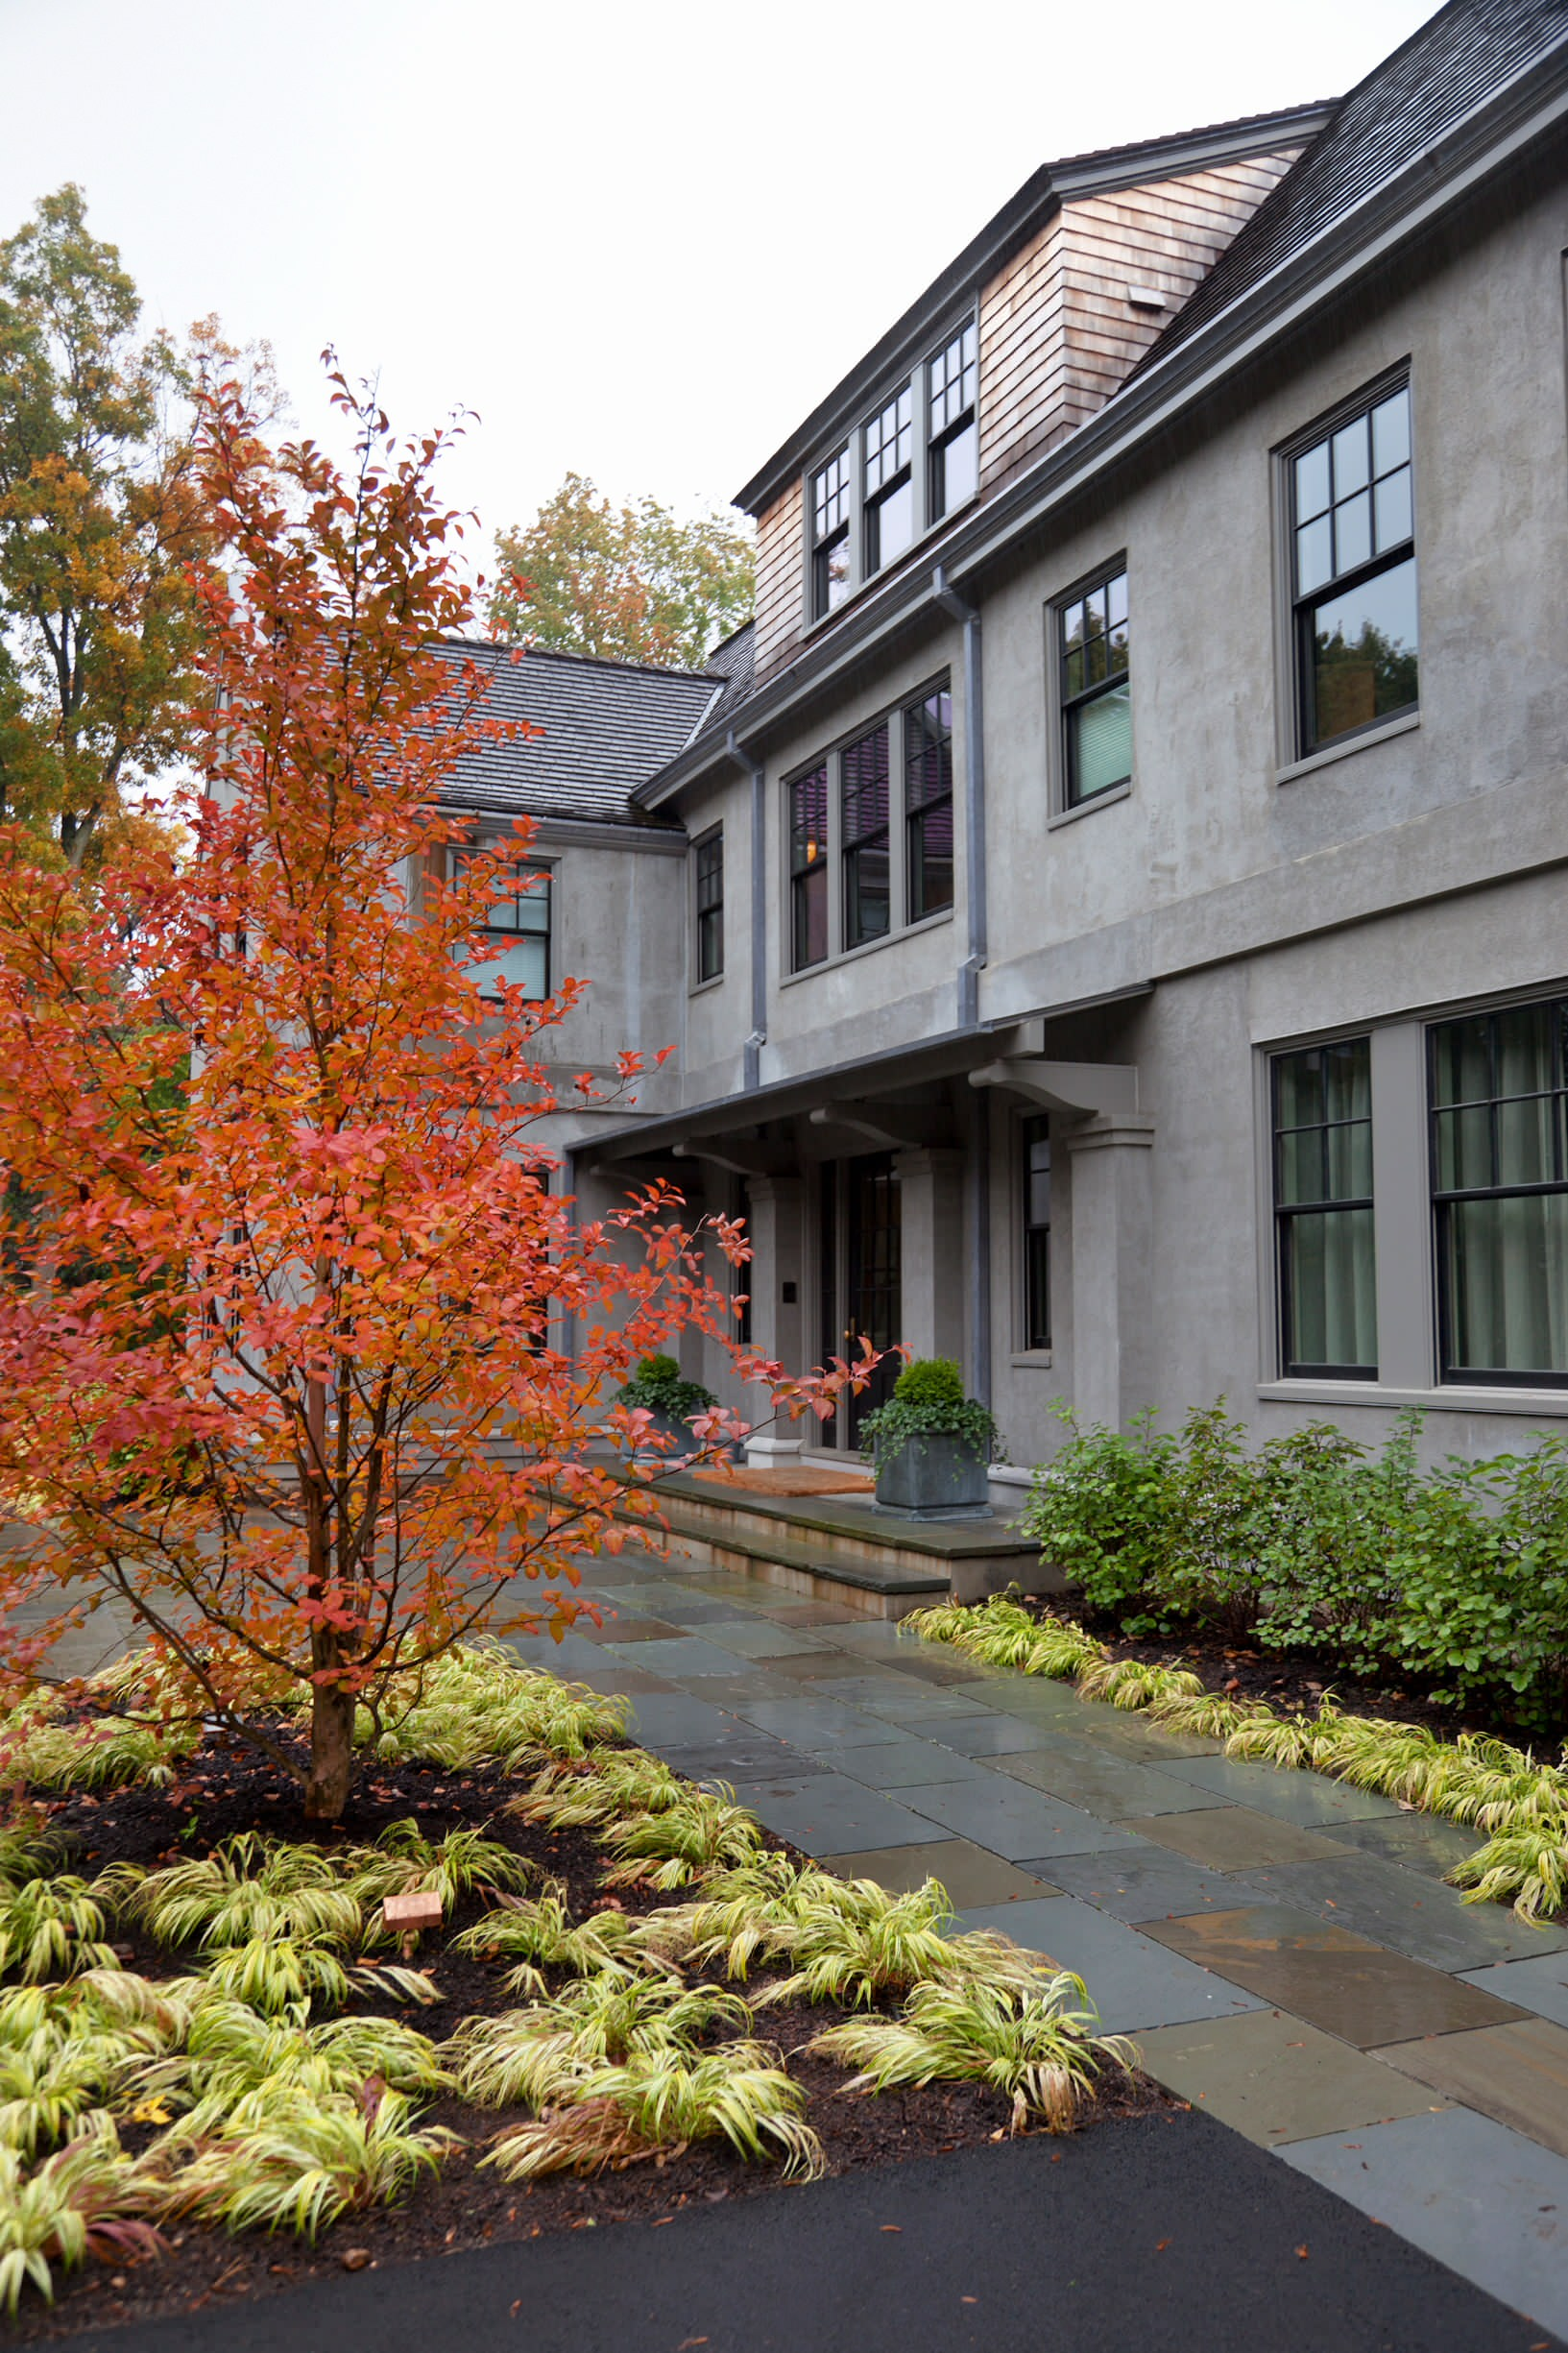tree: (14, 385, 810, 1828)
